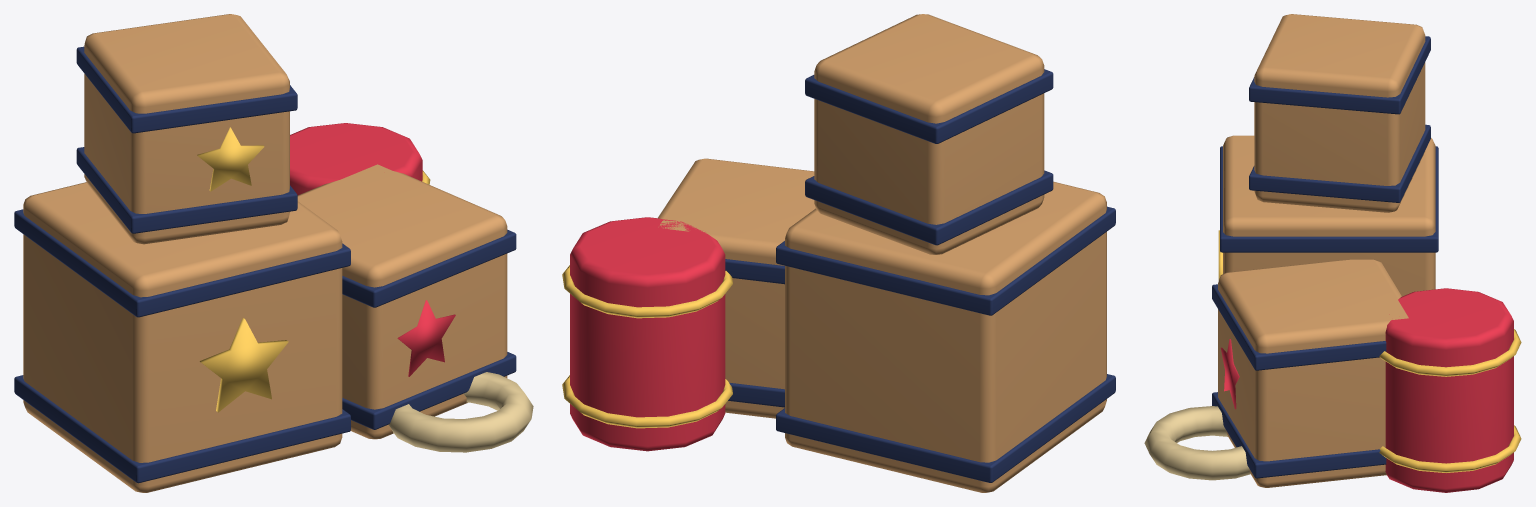
File: sky_crates.glb
3 renders of one model, left to right at view 1: azimuth 30°, elevation 25°; view 2: azimuth 150°, elevation 25°; view 3: azimuth 270°, elevation 25°, orthographic. The views are drawn at different scales.
Visible parts, largest first — view 1: Crates; view 2: Crates; view 3: Crates.
Boxes of the visible parts, bbox=[...] form: Crates: bbox=[14, 14, 533, 492]; Crates: bbox=[562, 14, 1115, 492]; Crates: bbox=[1144, 14, 1521, 492].
Size of the model in its own units: 1.97 by 1.7 by 1.78.
